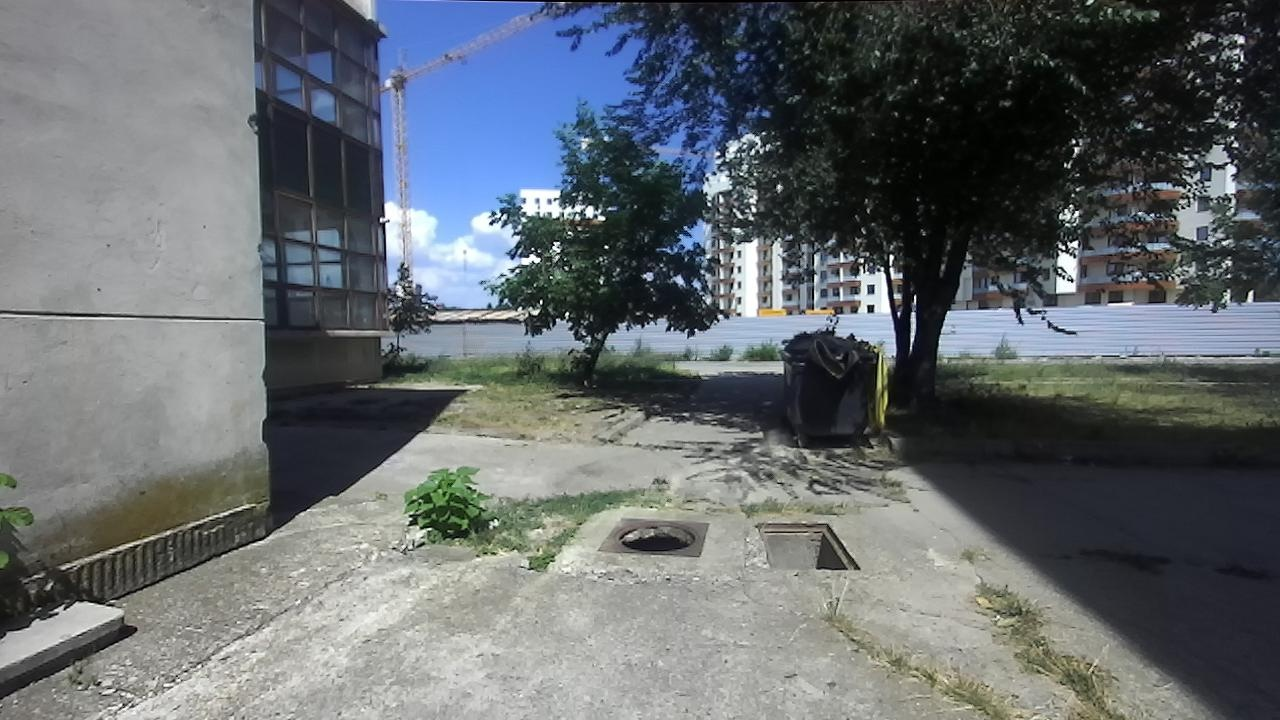drain: (750, 518, 865, 577), (608, 517, 697, 554)
